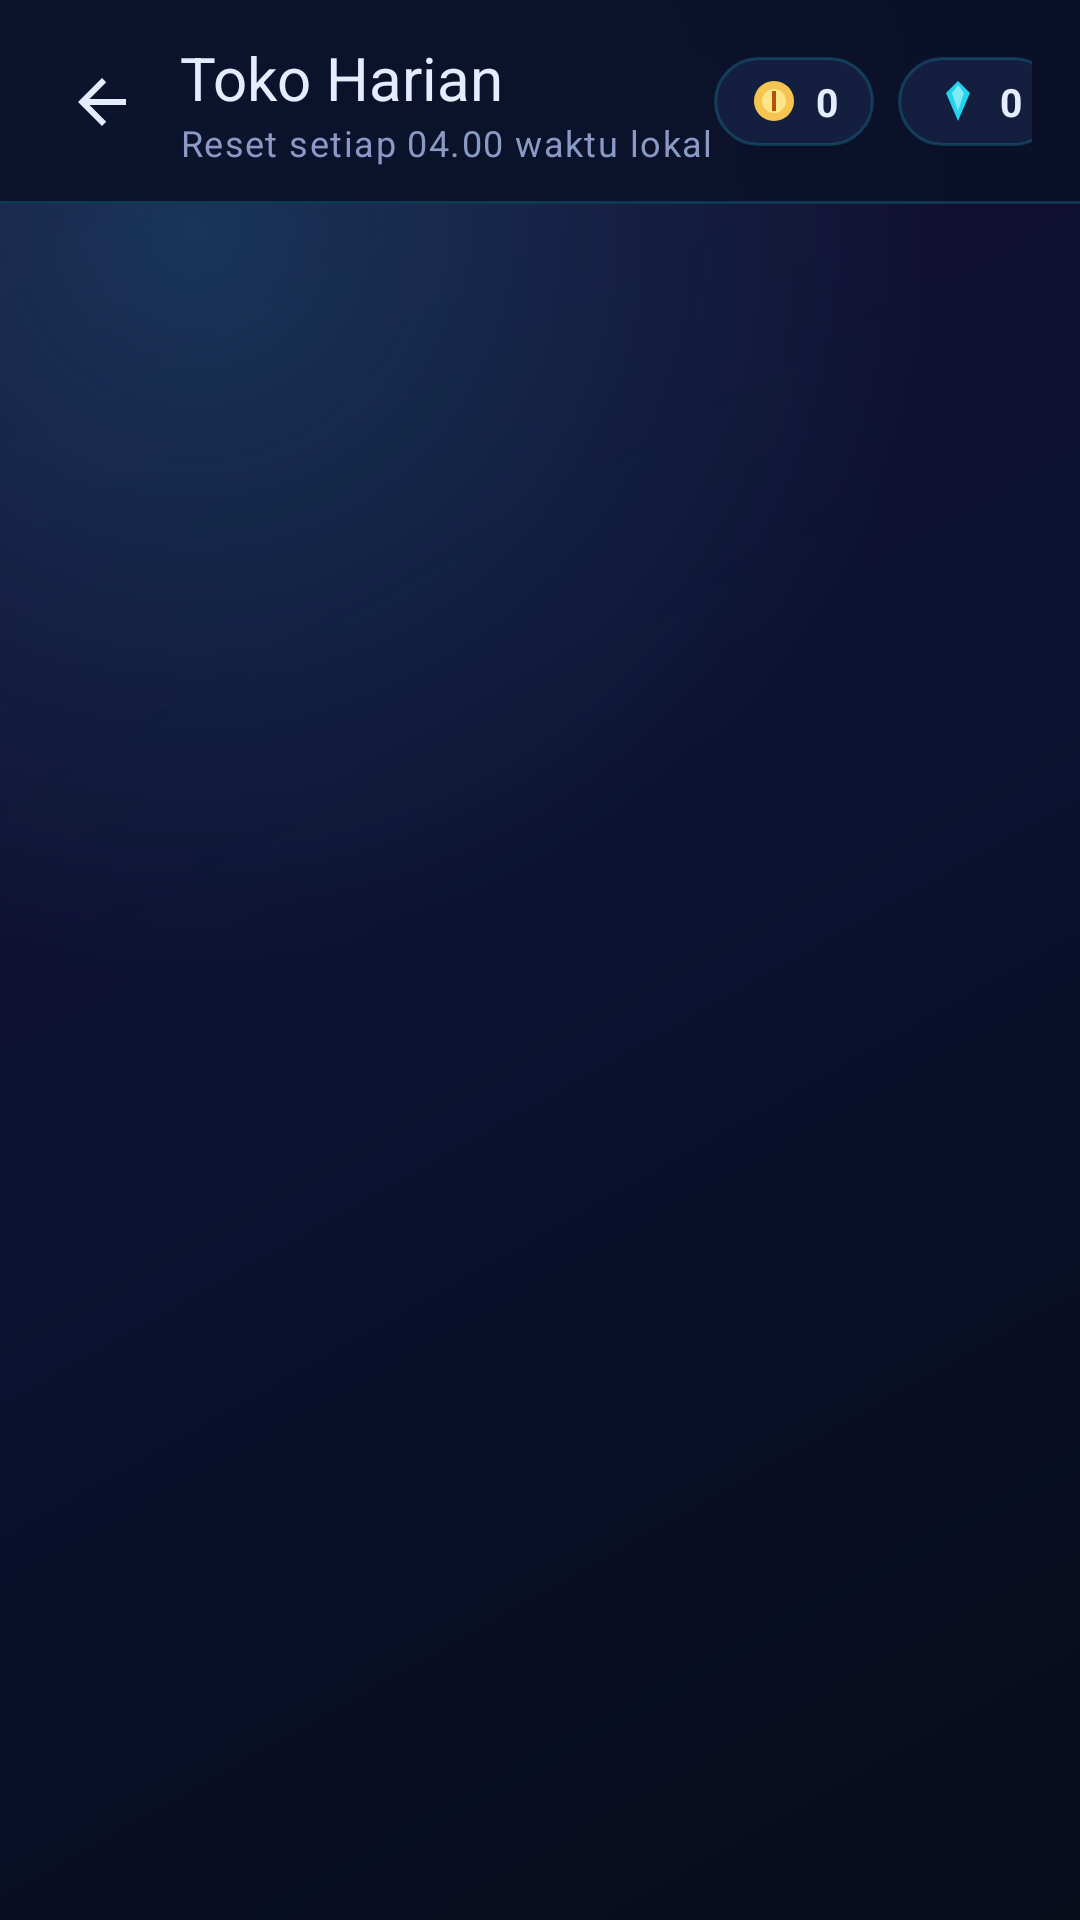

Icons on this 1080 x 1920 Android screen, each with the point to tap as (x=x, y=y):
coin: (x=774, y=101)
diamond: (x=958, y=101)
Kembali: (x=102, y=102)
